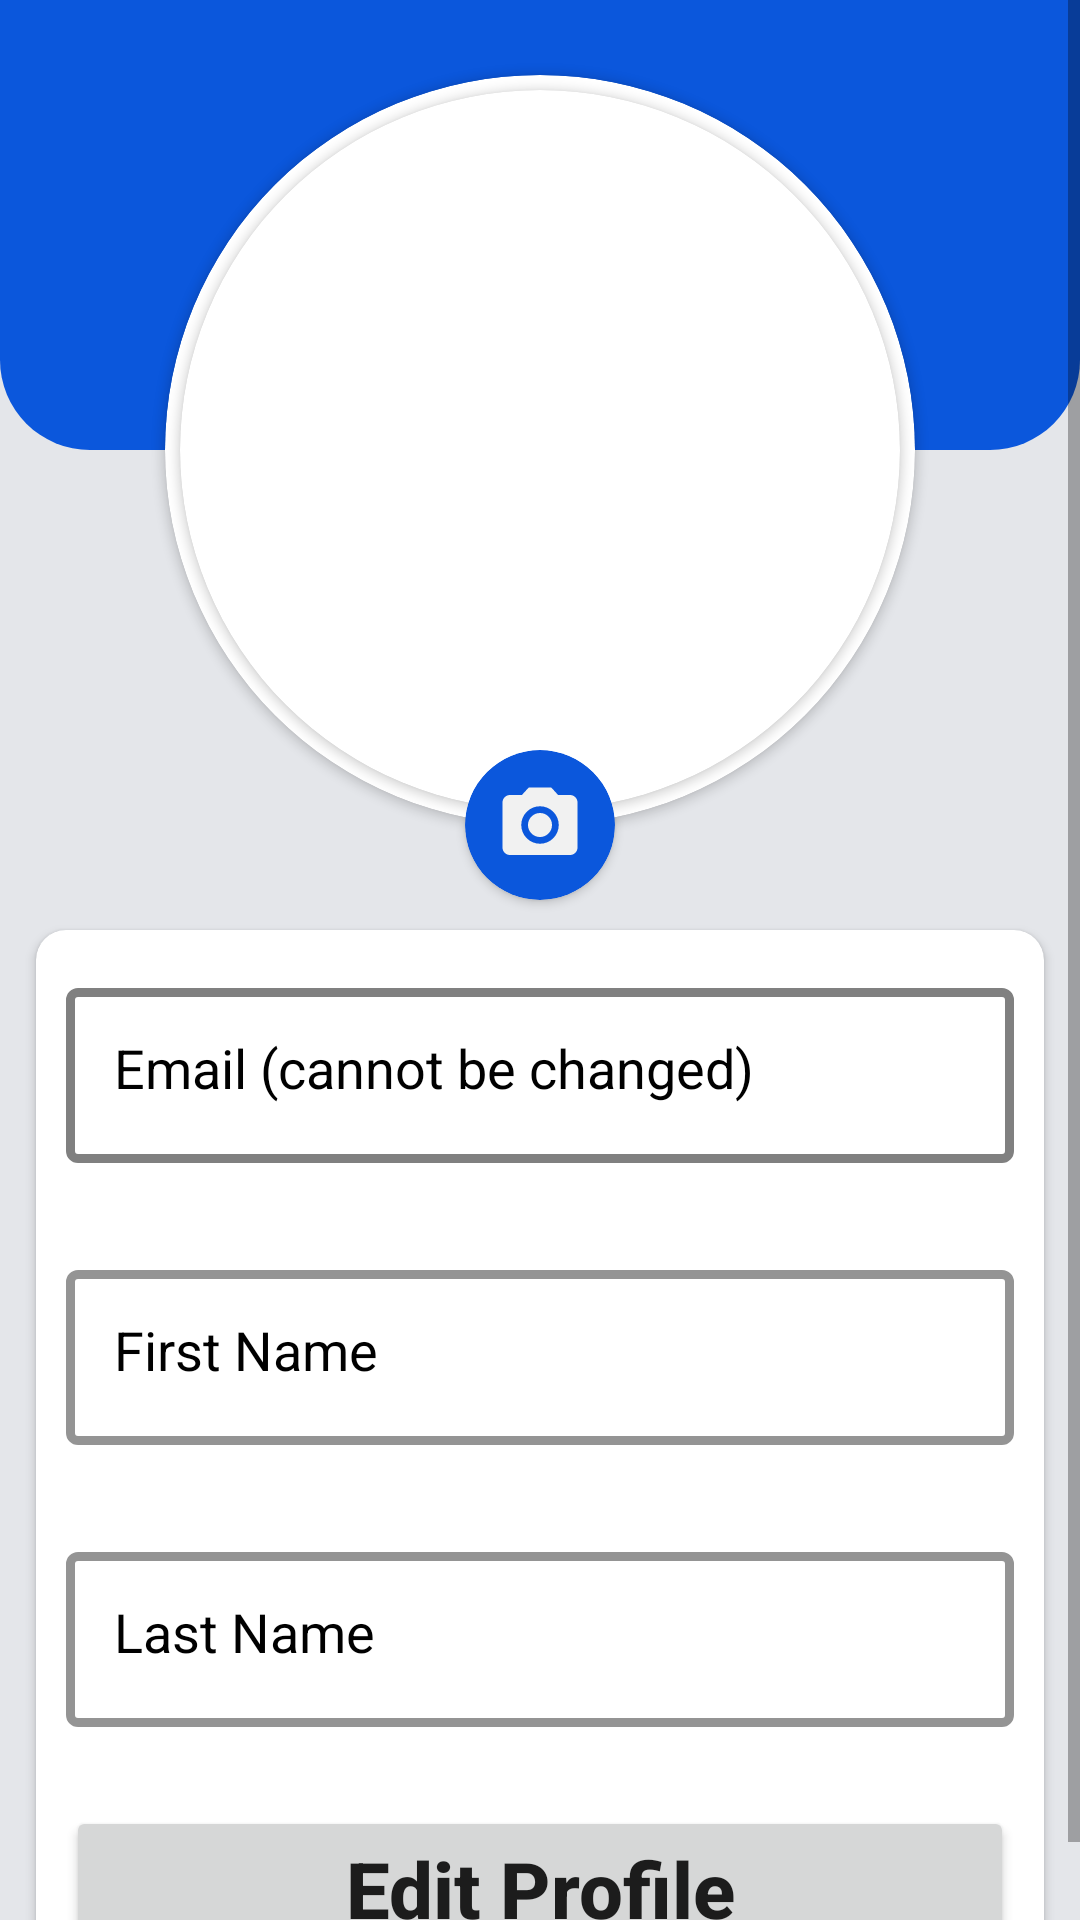

Locate icon controls on the screen. Image size 1080 x 1920, boxes as box(x1, y1, x2, y2).
camera: box(502, 787, 578, 855)
